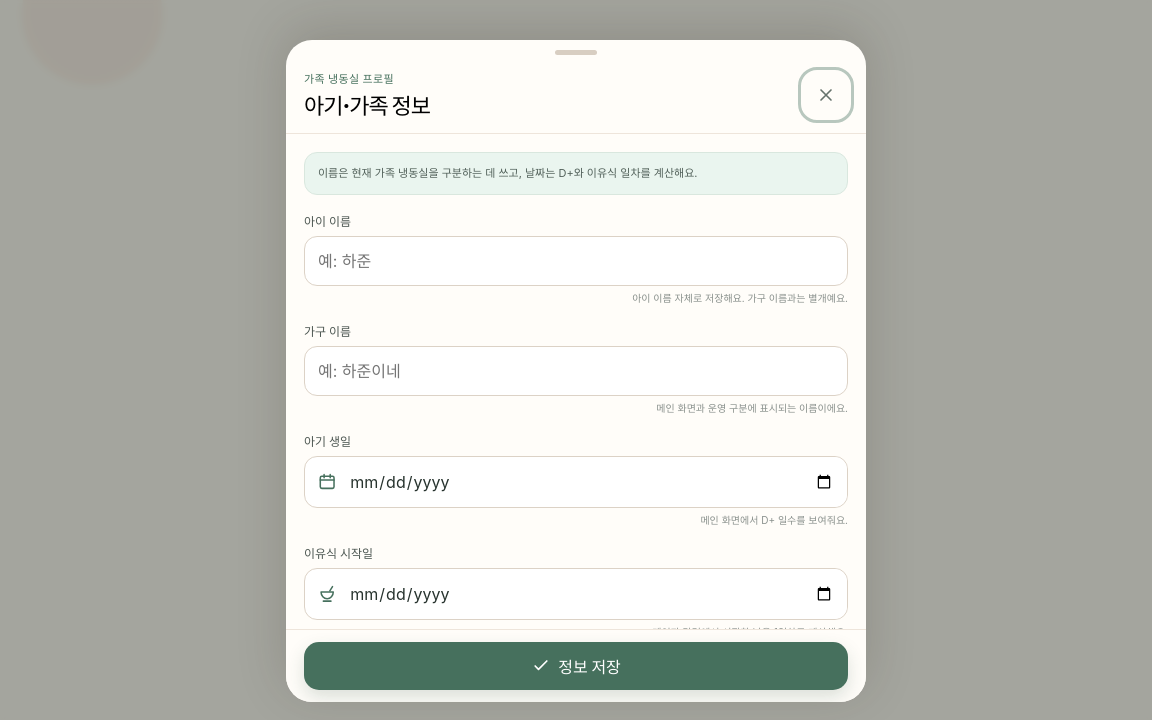
Test: 아기·가족 정보 시트 › 생일보다 빠른 이유식 시작일은 저장하지 않는다
The width and height of the screenshot is (1152, 720).
Type "2026-03-09" into the date field labelled "아기 생일". click: (592, 482)
box: [336, 457, 847, 507]
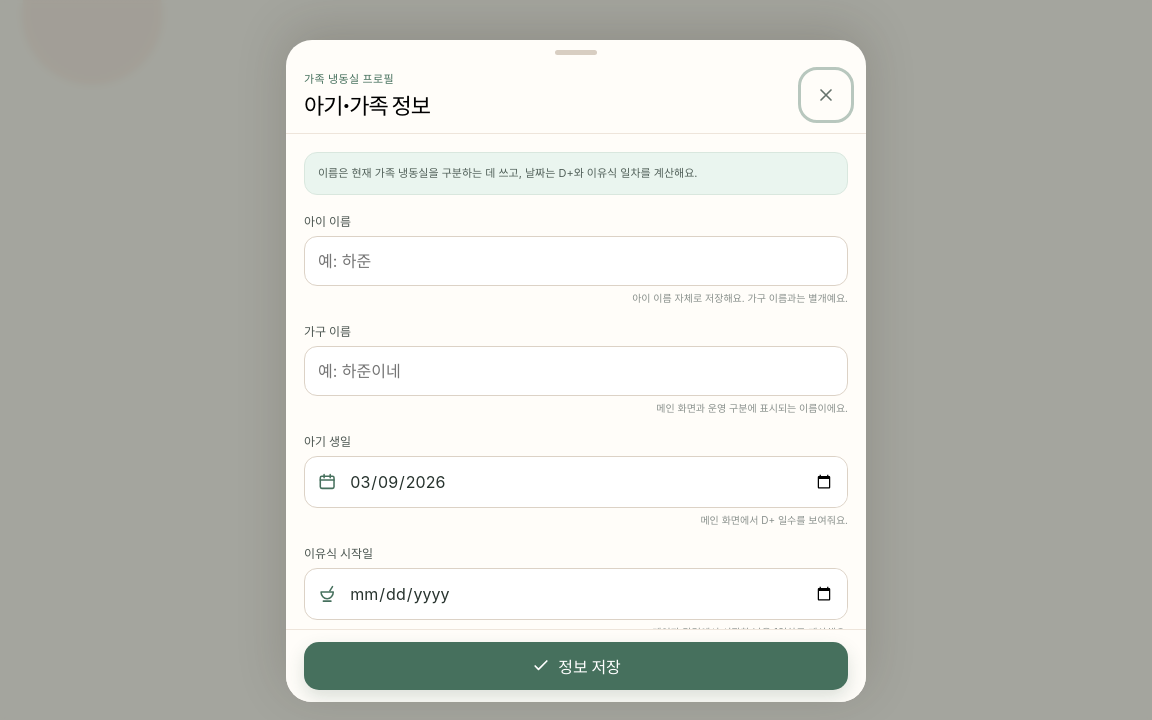
Type "2026-03-08" into the date field labelled "이유식 시작일". click: (592, 594)
box: [336, 569, 847, 619]
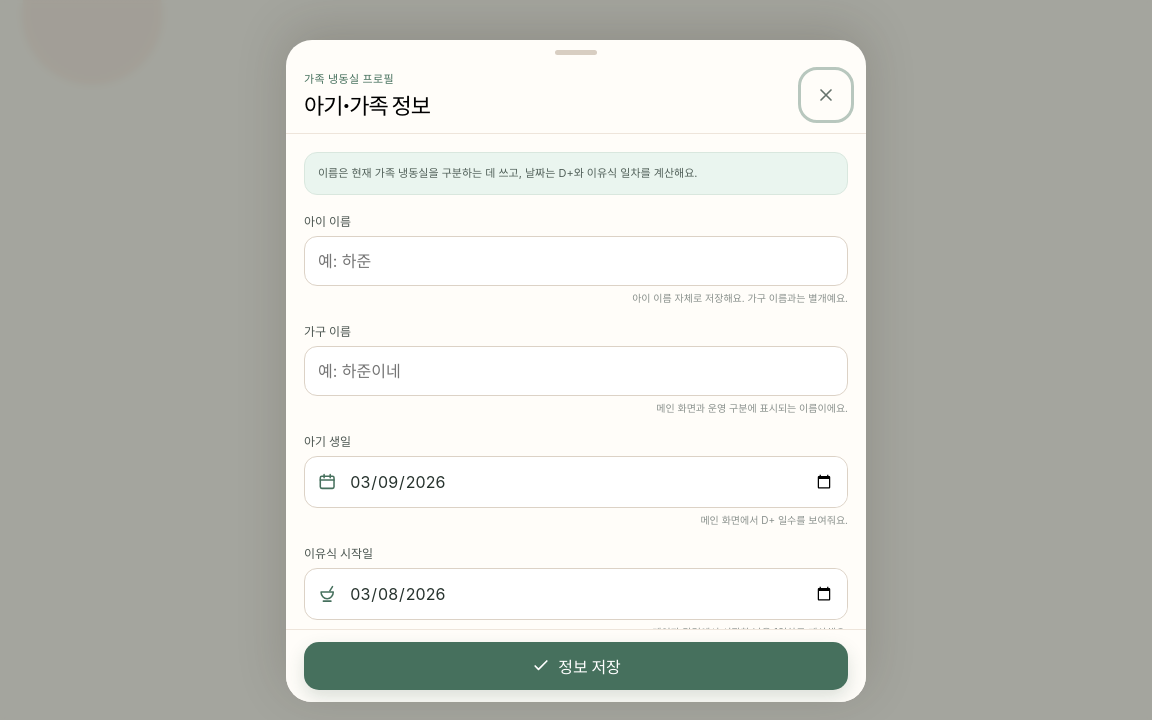
Click the button "정보 저장". click: (576, 666)
box: [304, 642, 848, 690]
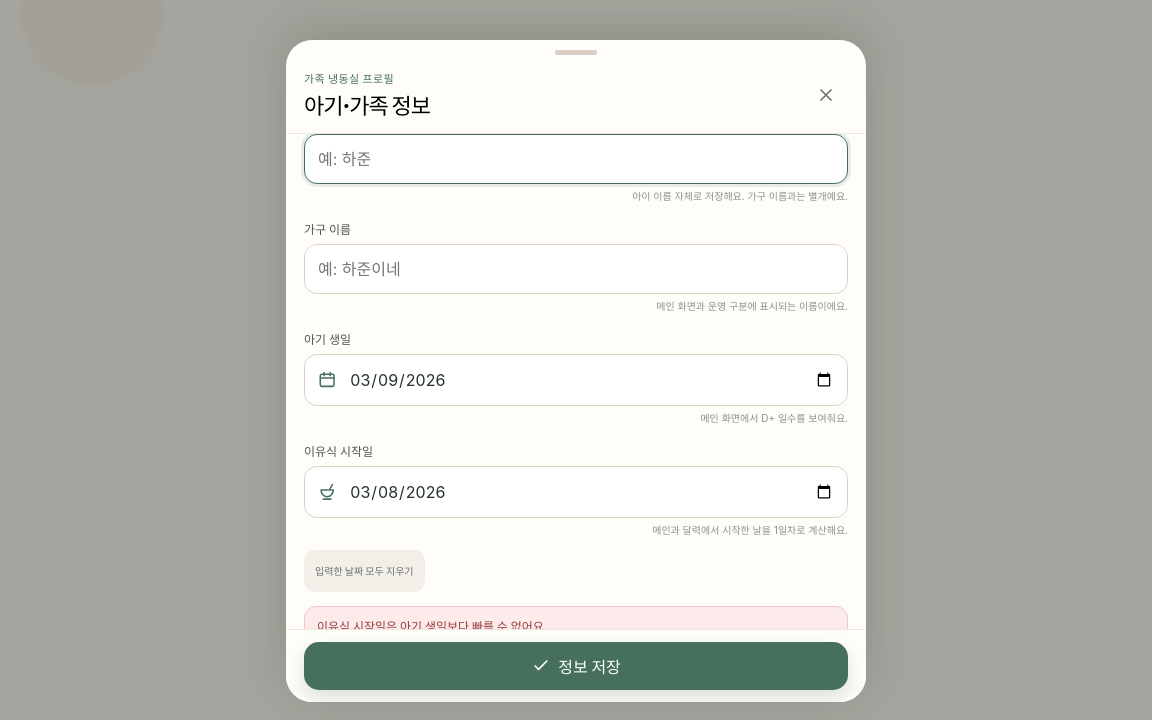
Result: the message reads "이유식 시작일은 아기 생일보다 빠를 수 없어요." at [317, 619, 548, 629]
